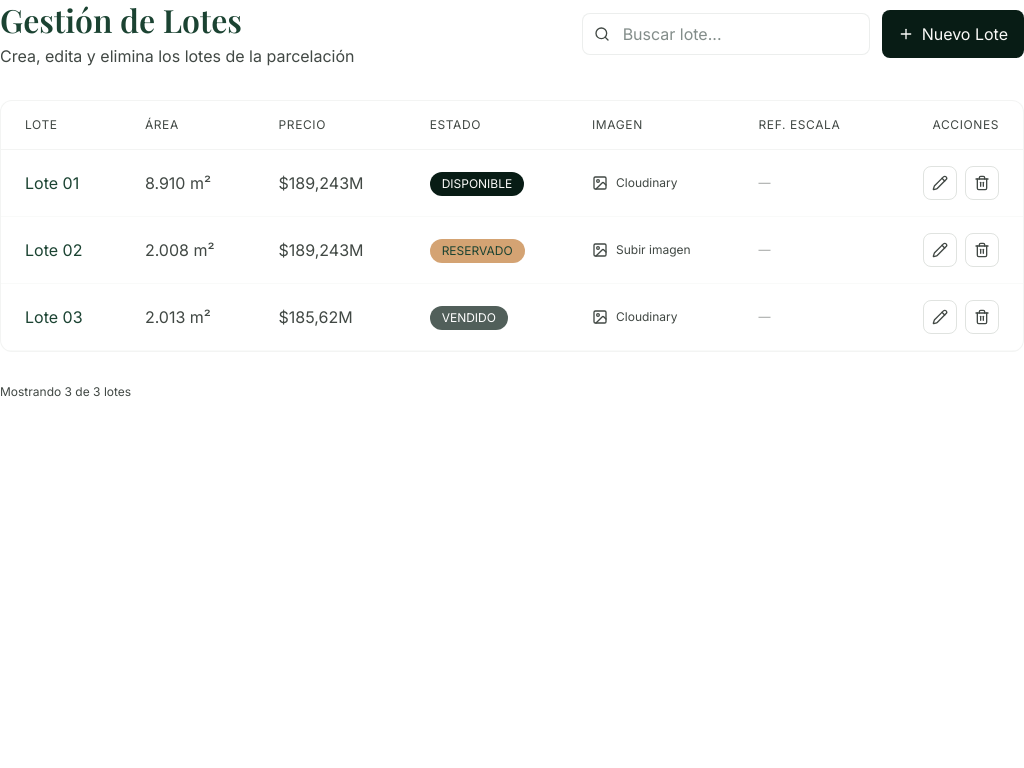
Test: LotsPage › Create lot modal › shows error when createLot fails
Click the button "Nuevo Lote" at coordinates (953, 34), box [882,10,1023,58]
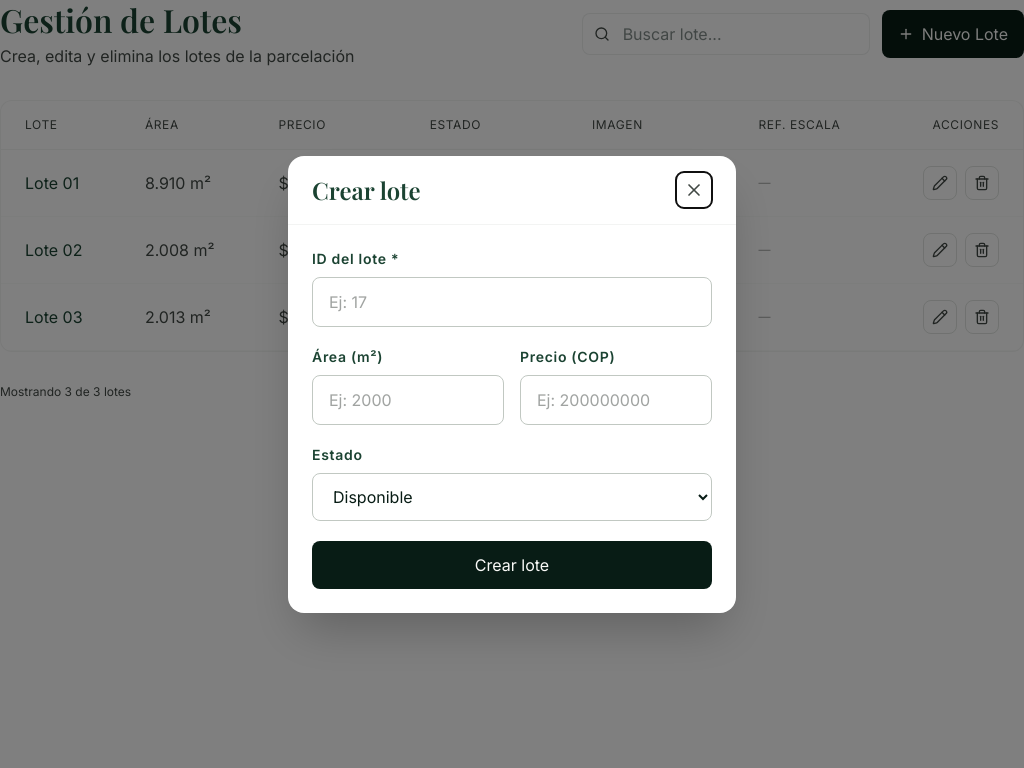
Type "01" into the field labelled "ID del lote *" at coordinates (512, 302), box [312,276,712,326]
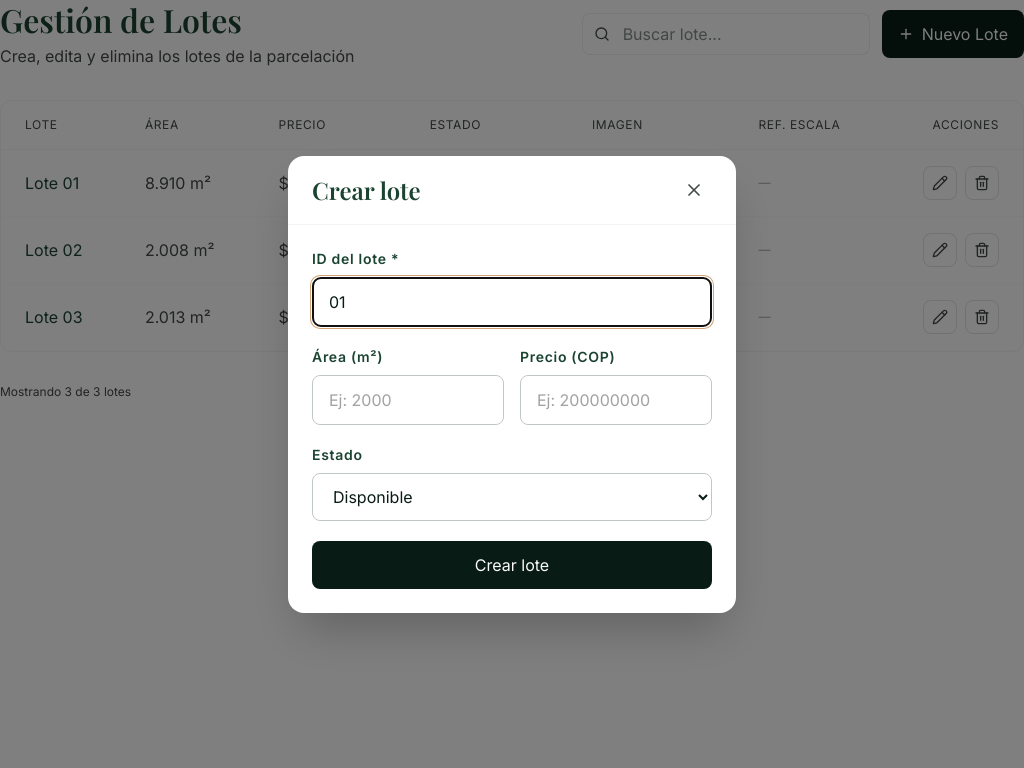
Click the button "Crear lote" at coordinates (512, 564), box [312,540,712,588]
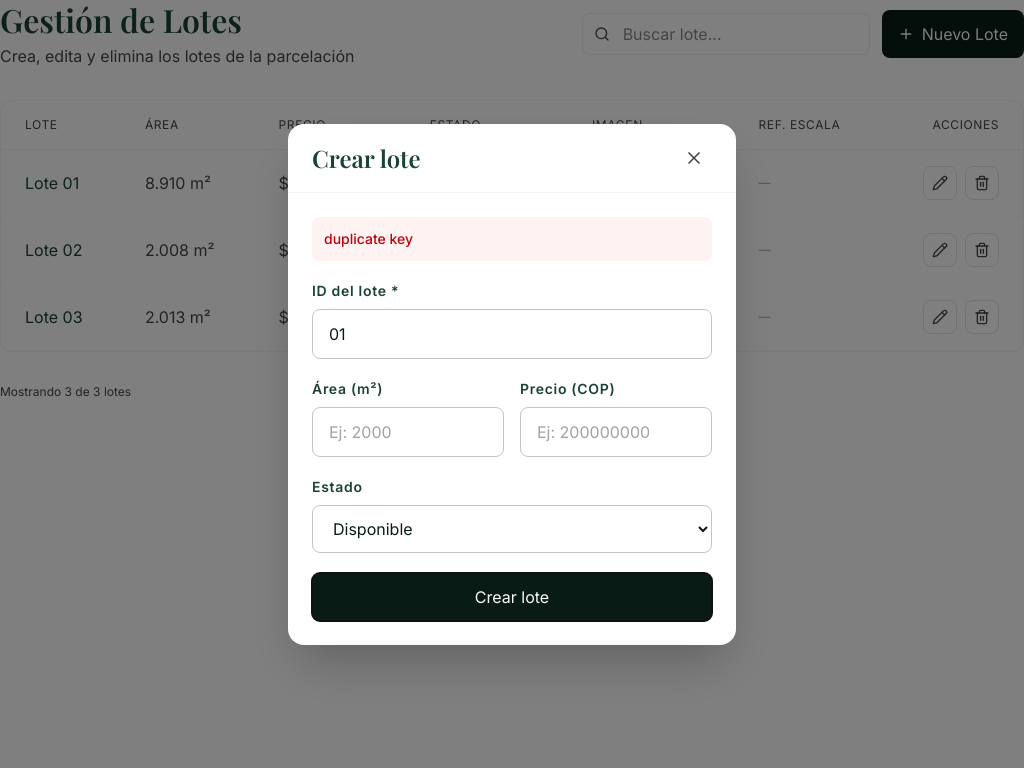
Check: the text "duplicate key" is shown, box [312,216,712,260]
